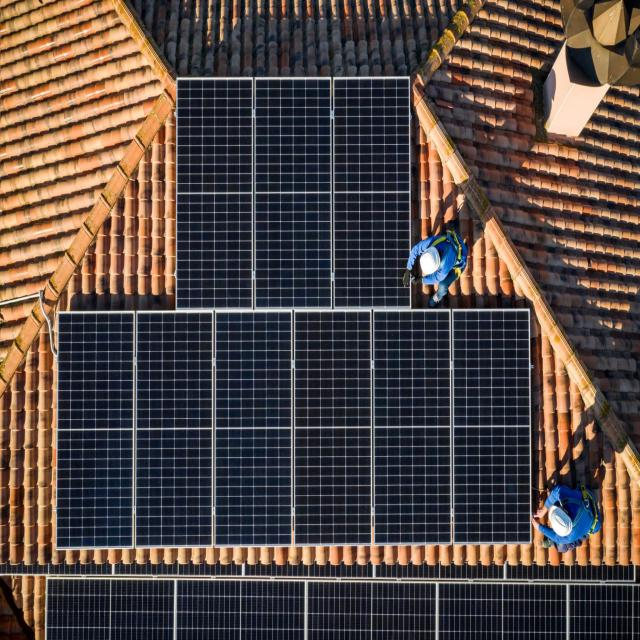clean-solar-panel: (55, 79, 531, 550), (46, 569, 640, 638)
